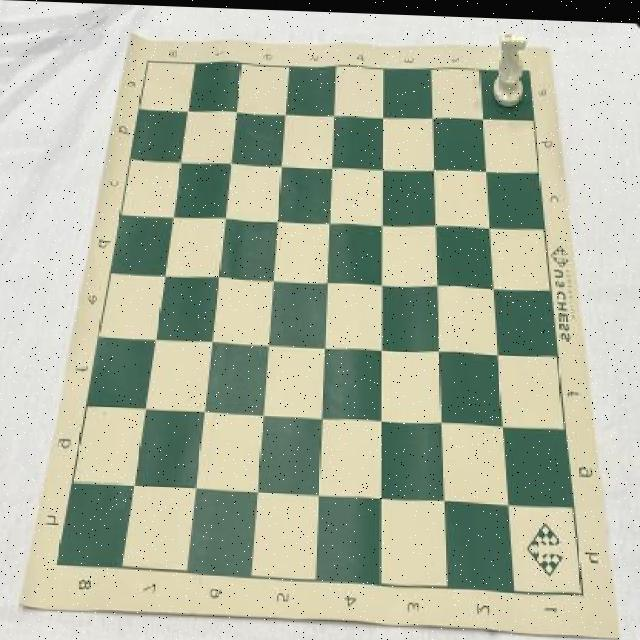white-king: (492, 24, 529, 106)
